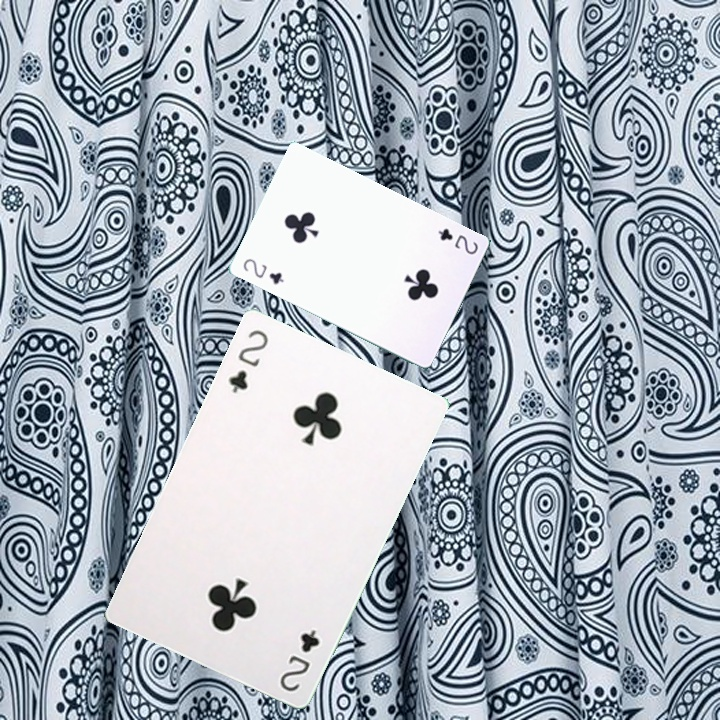2c: (224, 325, 271, 396), (275, 625, 322, 695), (239, 254, 286, 288), (433, 224, 481, 257)
